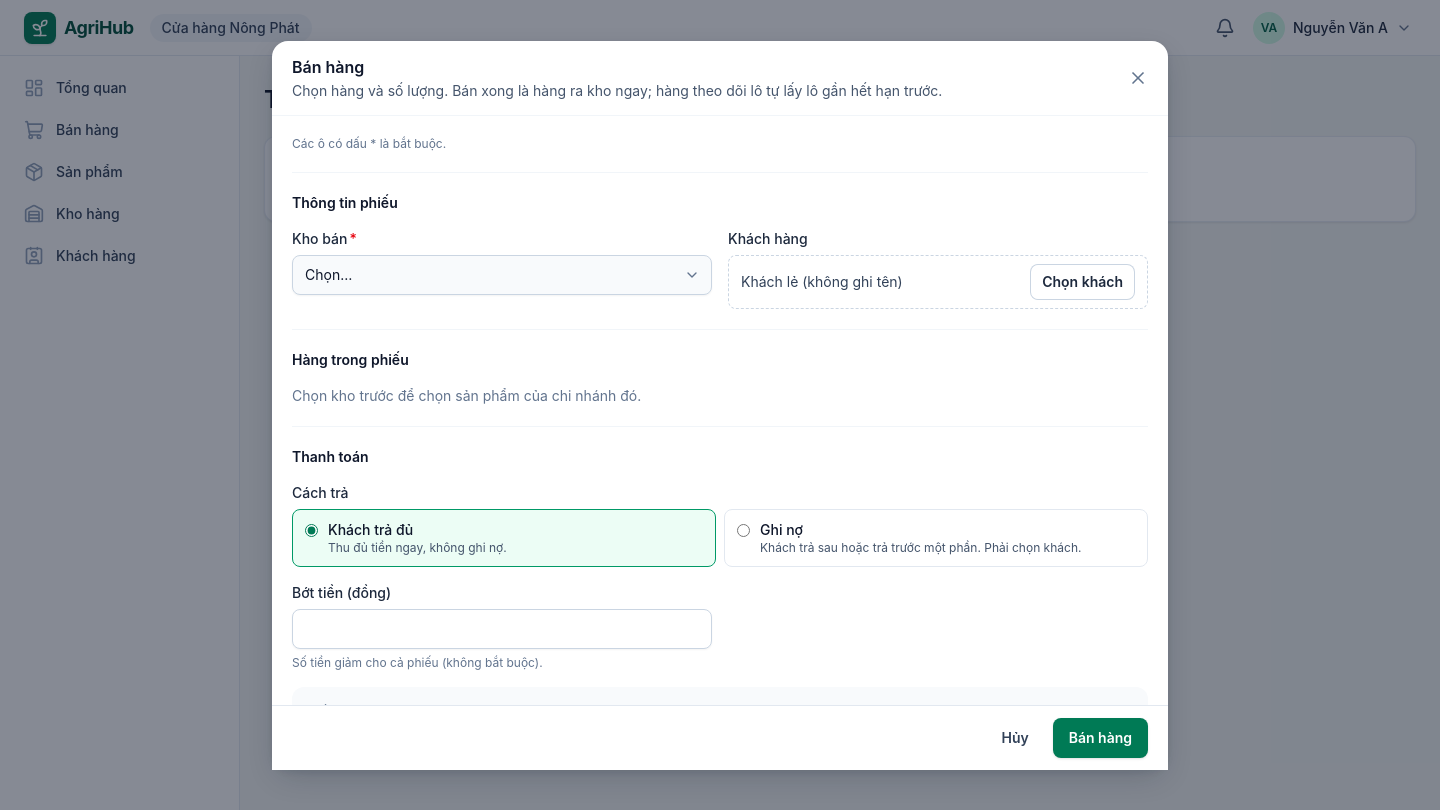
Test: bán hàng: lập phiếu › khách lẻ trả đủ: đơn giá gợi ý là giá tiền mặt theo đơn vị, tính thành tiền, bớt tiền, gửi đúng nội dung, báo thành công kèm liên kết xem phiếu
Expected: the heading "Bán hàng" is shown, [292,56,364,76]
Select "Kho chính" in the dropdown labelled "Kho bán" at (502, 274), box [292,254,712,294]
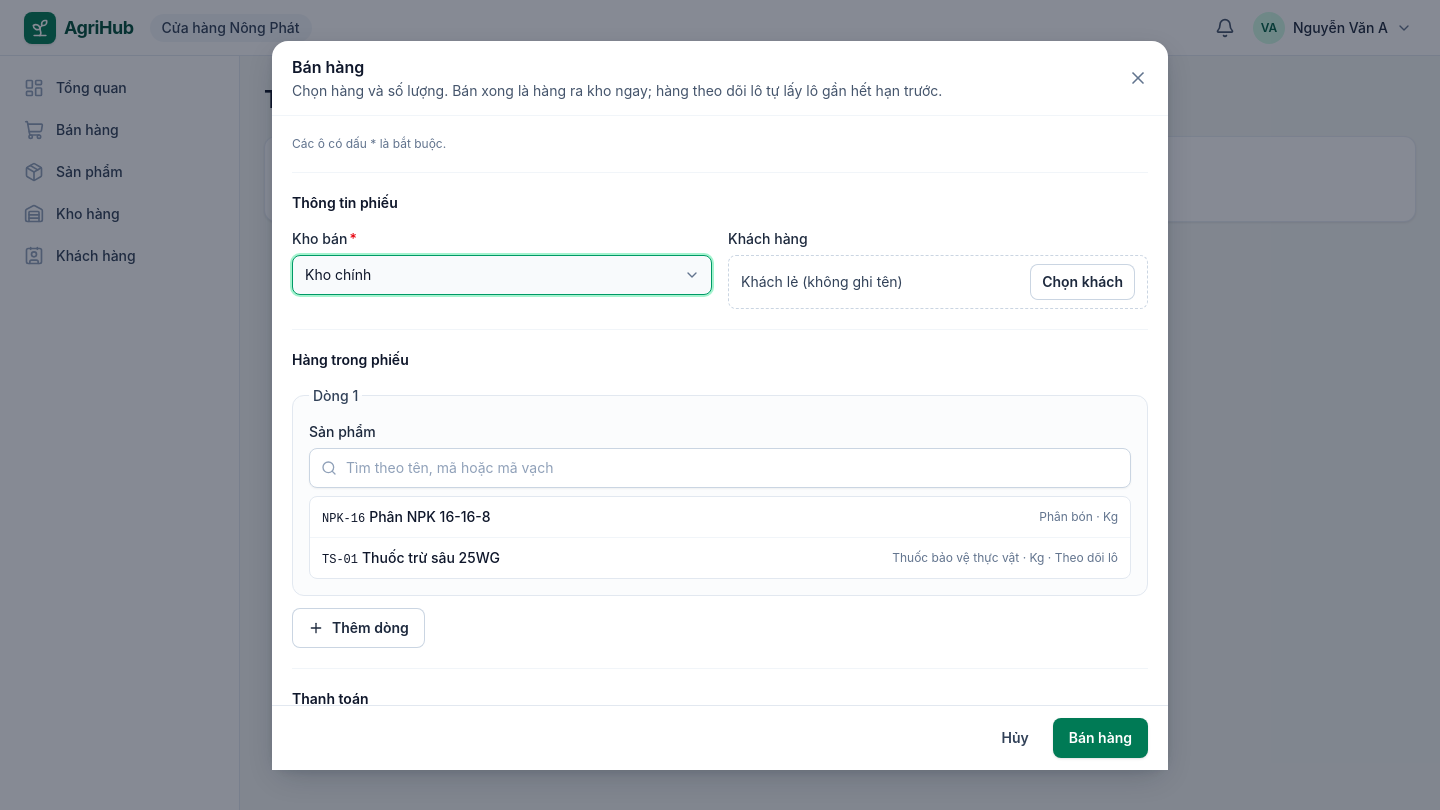
Expected: the text "Khách lẻ (không ghi tên)" is shown, [741,272,903,292]
Click the button "NPK-16 Phân NPK 16-16-8 Phân bón · Kg" at (344, 518), box [310,496,1130,536]
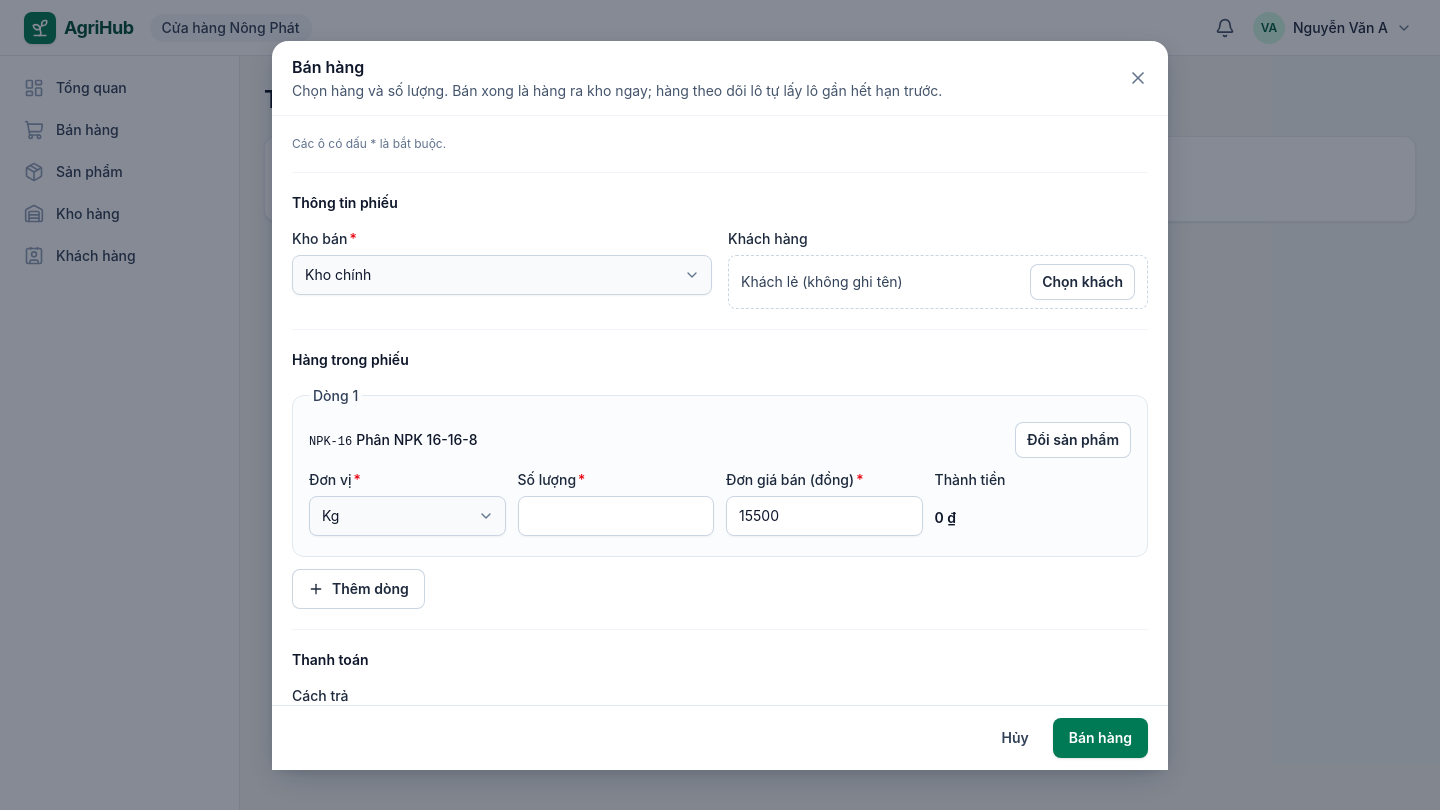
Expected: the field labelled "Đơn giá bán (đồng)" holds "15500", [726,496,922,536]
Select "Bao (= 50 Kg)" in the dropdown labelled "Đơn vị" at (407, 516), box [309,496,506,536]
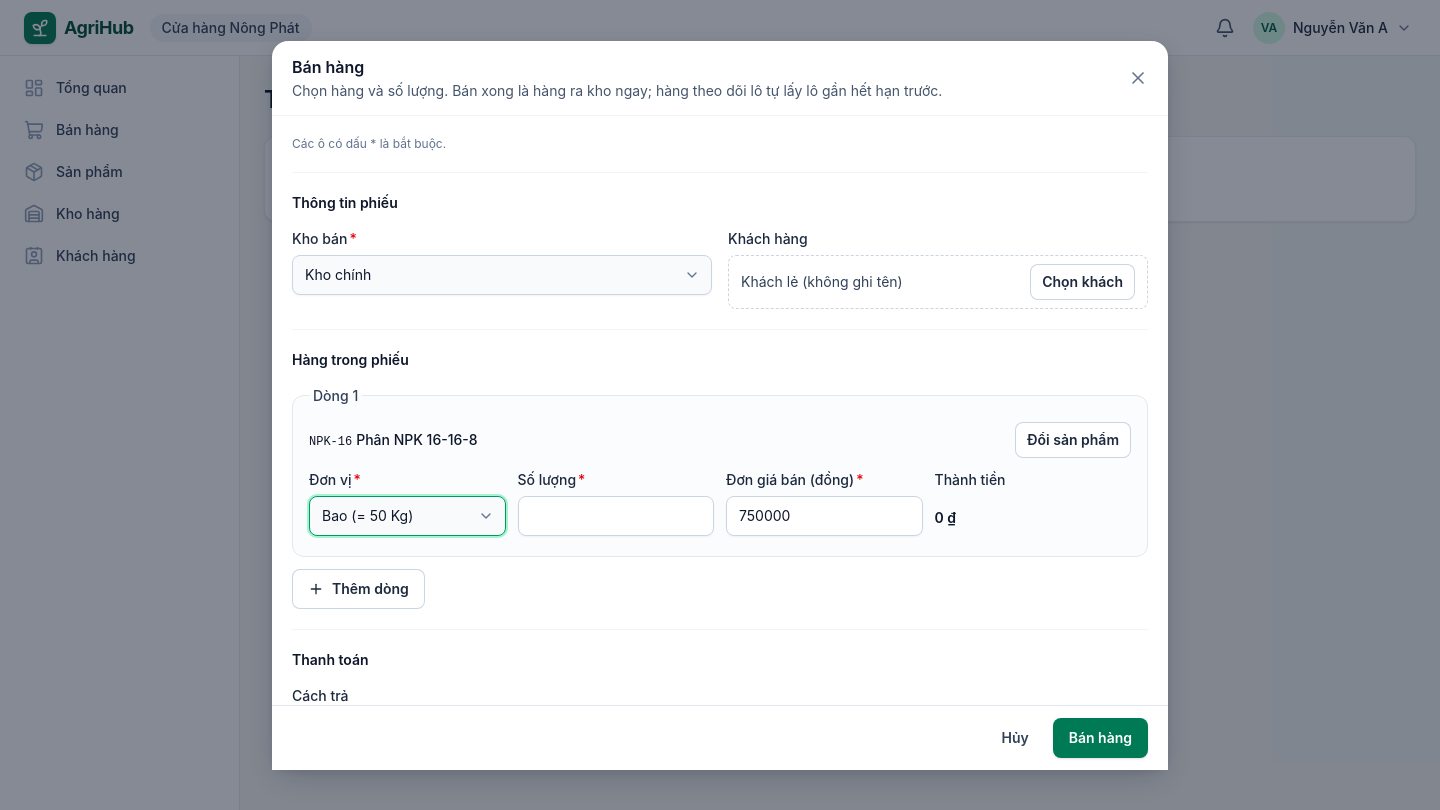
Expected: the field labelled "Đơn giá bán (đồng)" holds "750000", [726,496,922,536]
Type "2" into the field labelled "Số lượng" at (616, 516), box [518,496,714,536]
(page scrolled)
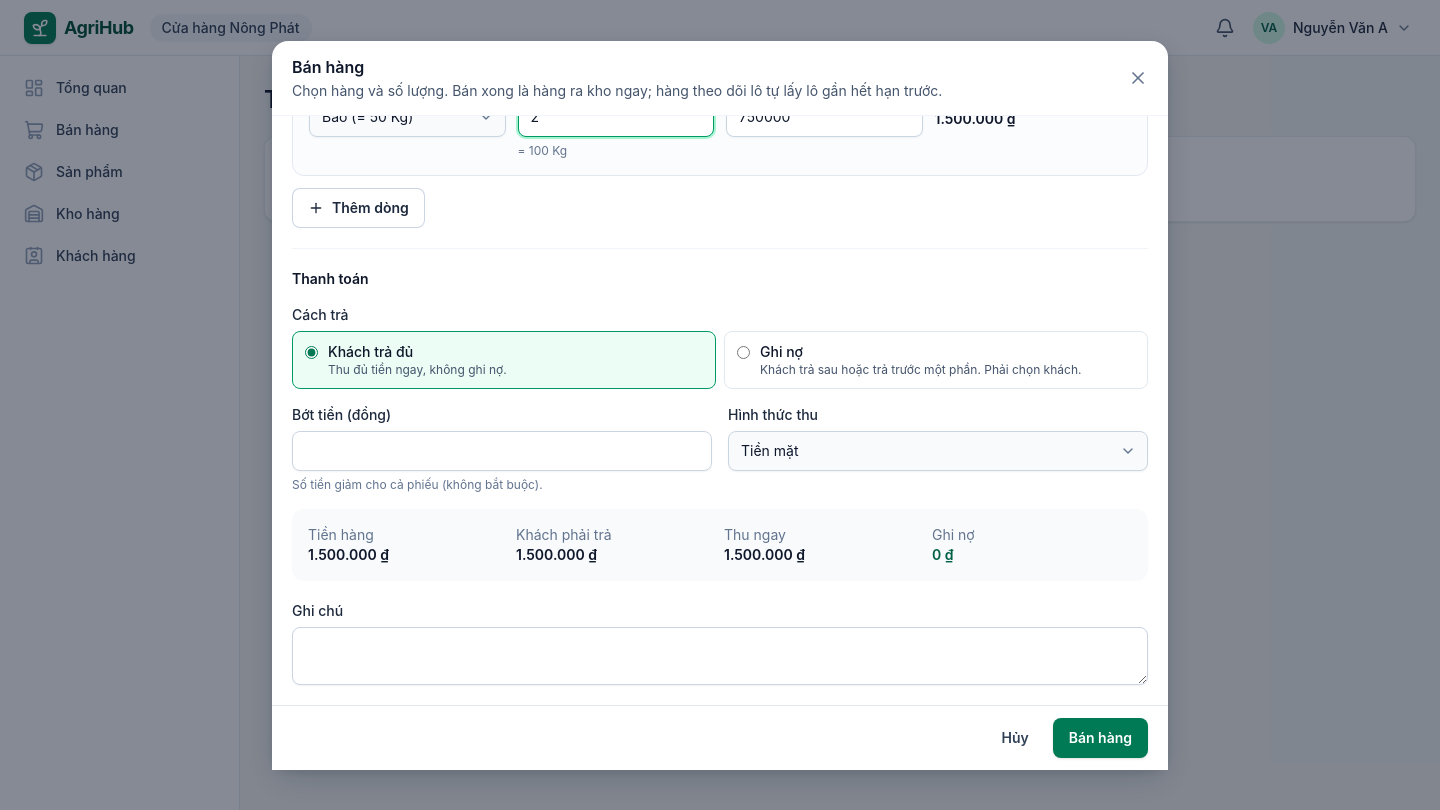
Expected: the 1st text "1.500.000 ₫" is shown, [934,116,1016,126]
Type "50000" into the field labelled "Bớt tiền (đồng)" at (502, 450), box [292,430,712,470]
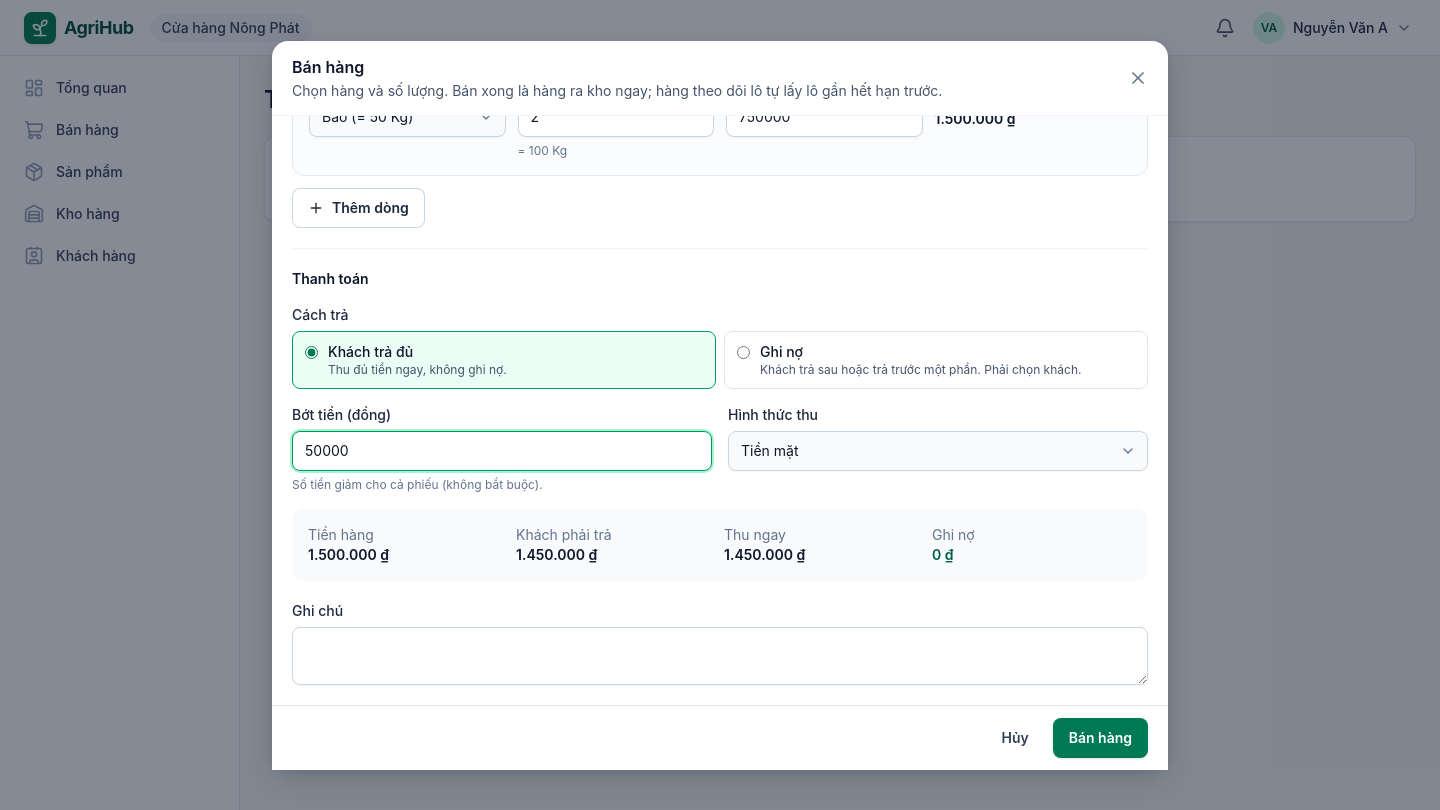
Expected: the text "1.500.000 ₫" below "Tiền hàng" is shown, [308,546,389,562]
Expected: the text "1.450.000 ₫" is shown 2 times, [516,546,597,562]; [724,546,805,562]
Click the button "Bán hàng" at (1100, 738), box [1053,718,1148,758]
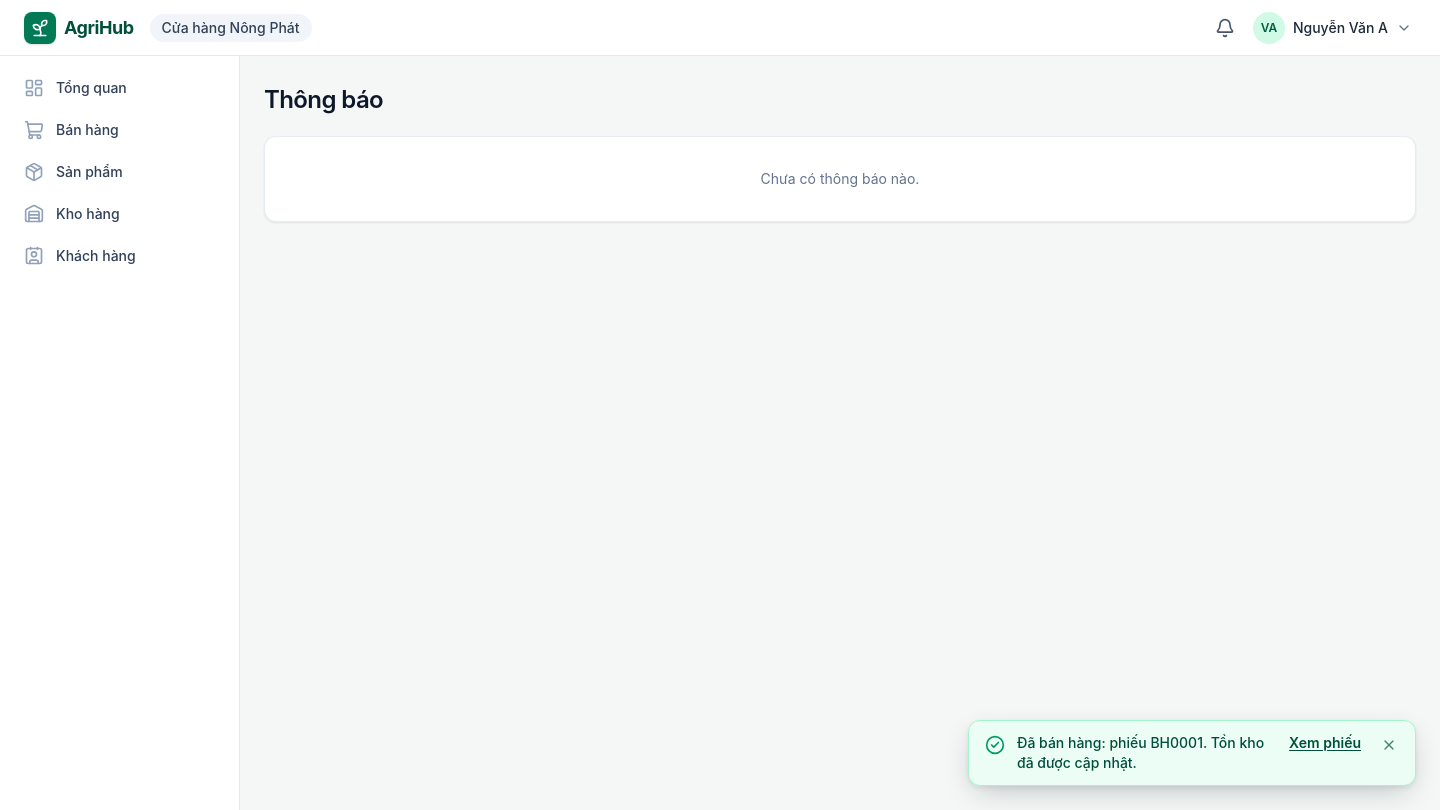
Expected: the text "Đã bán hàng: phiếu BH0001. Tồn kho đã được cập nhật." is shown, [1017,733,1277,773]
